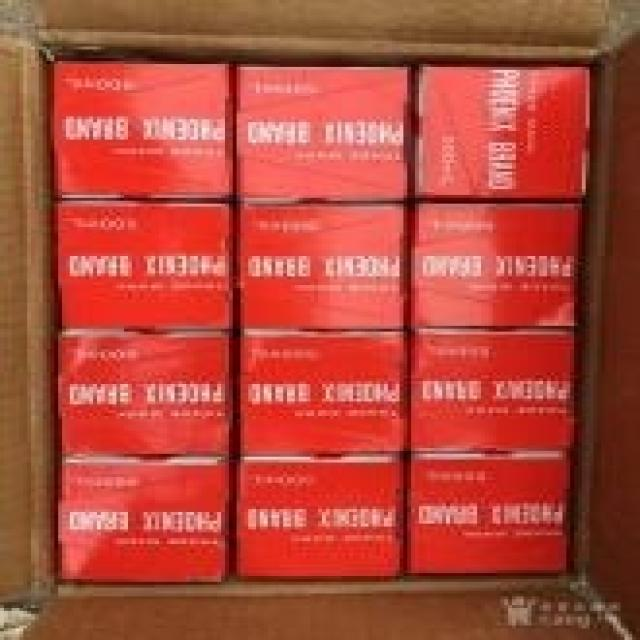Carton: (58, 332, 411, 573), (47, 64, 229, 189), (233, 67, 403, 198), (411, 70, 578, 195), (54, 204, 225, 323), (244, 204, 403, 329), (415, 204, 574, 326), (419, 335, 574, 451), (407, 457, 562, 570)
